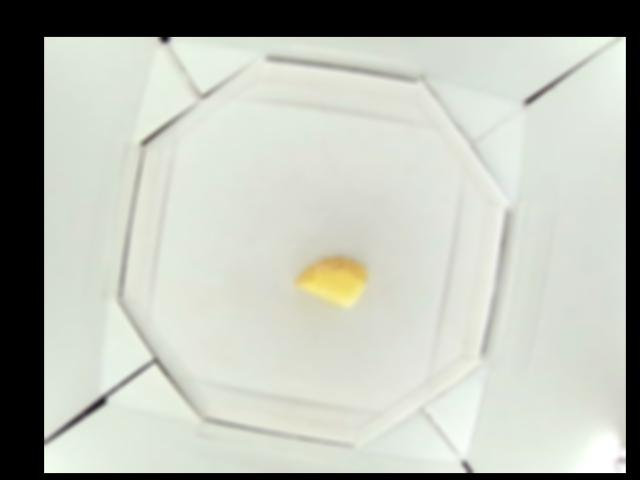Potato: (295, 257, 367, 304)
